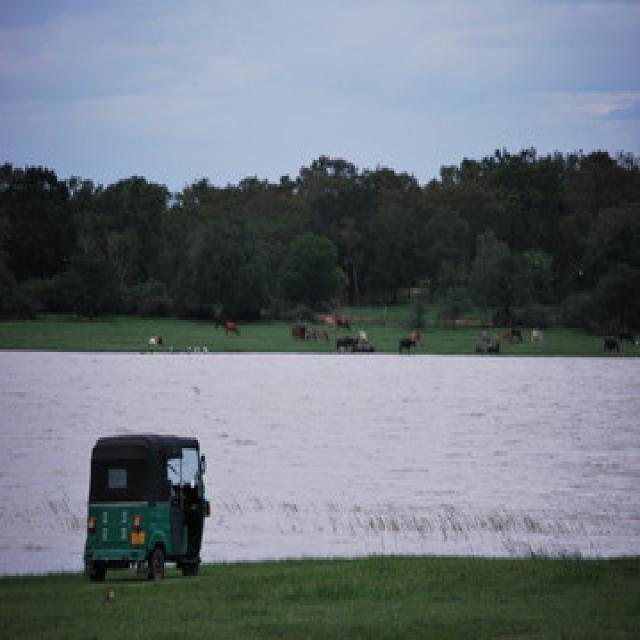three wheeler: (84, 435, 209, 581)
